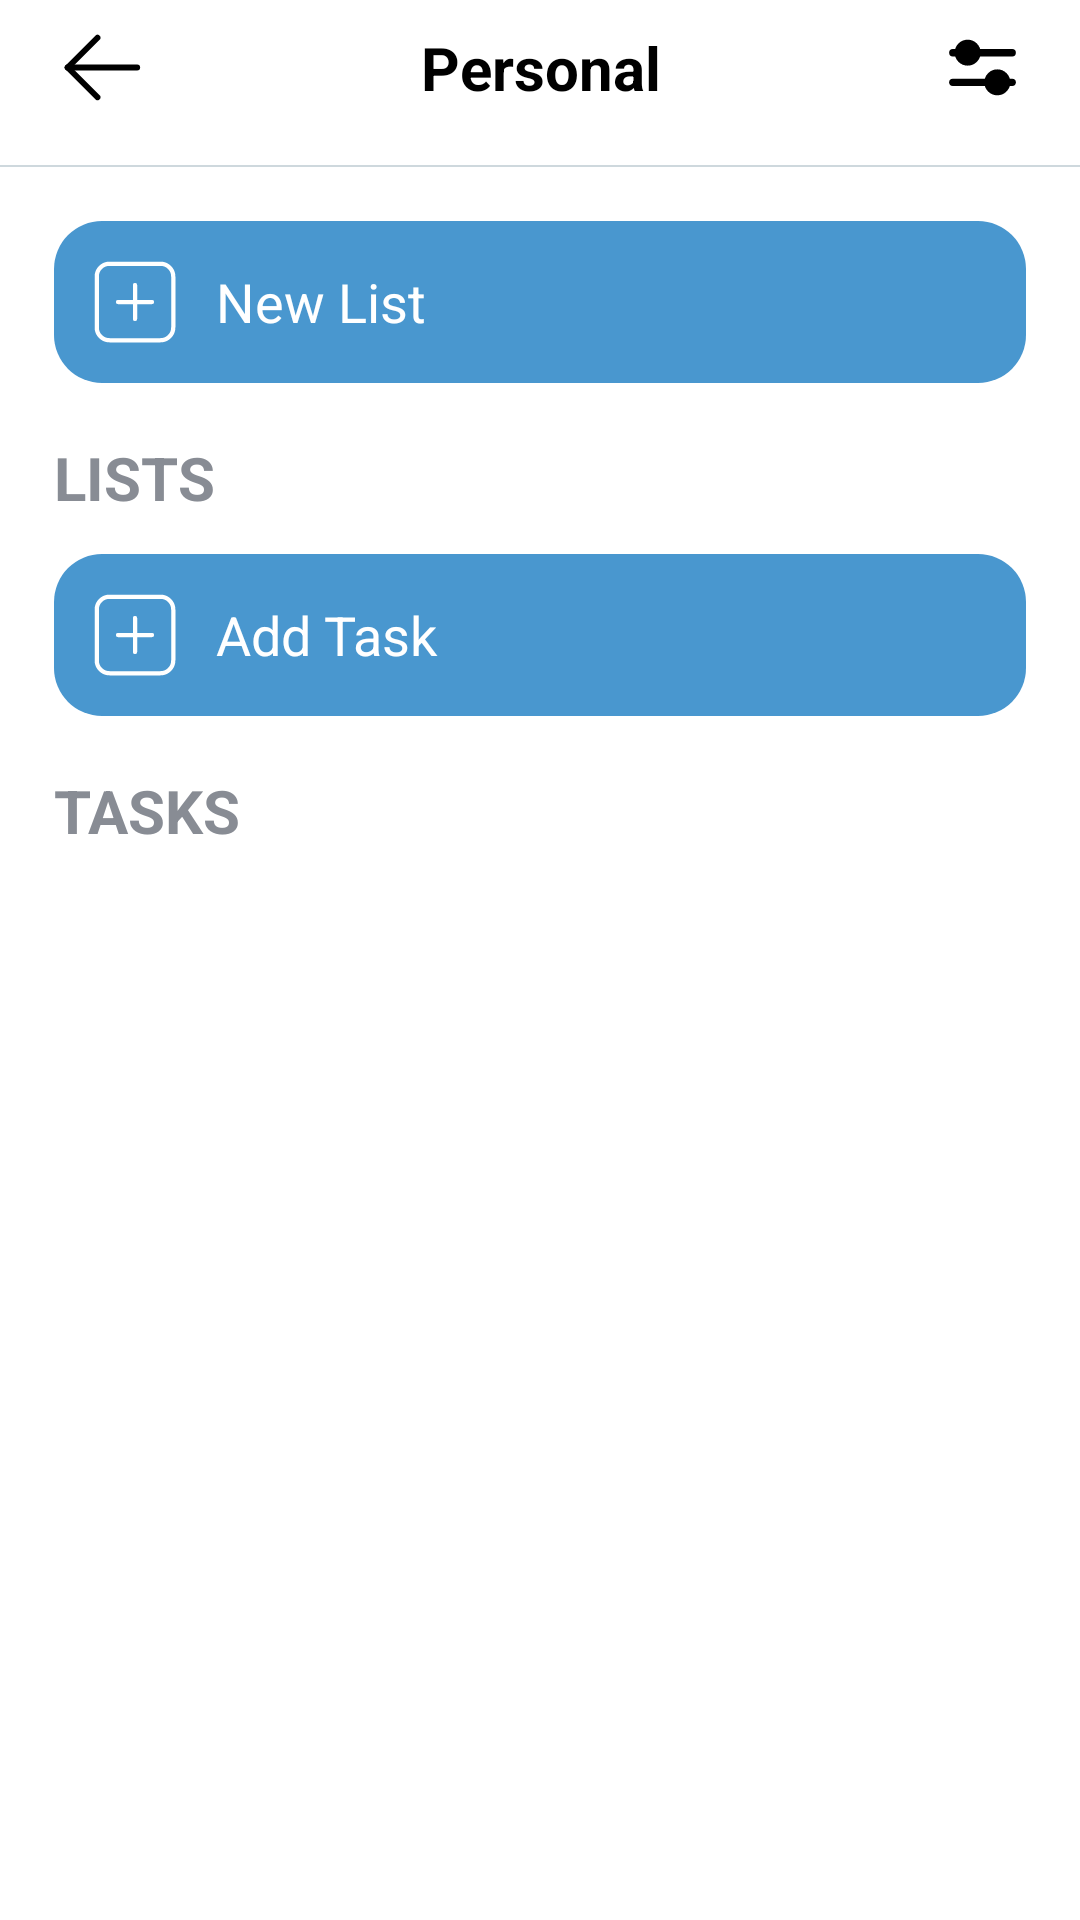

Screen size 1080px x 1920px. Icon name, then its center in pixels as point (x, y):
Button back: point (102, 67)
Icon add list: point (135, 302)
Settings: point (982, 67)
